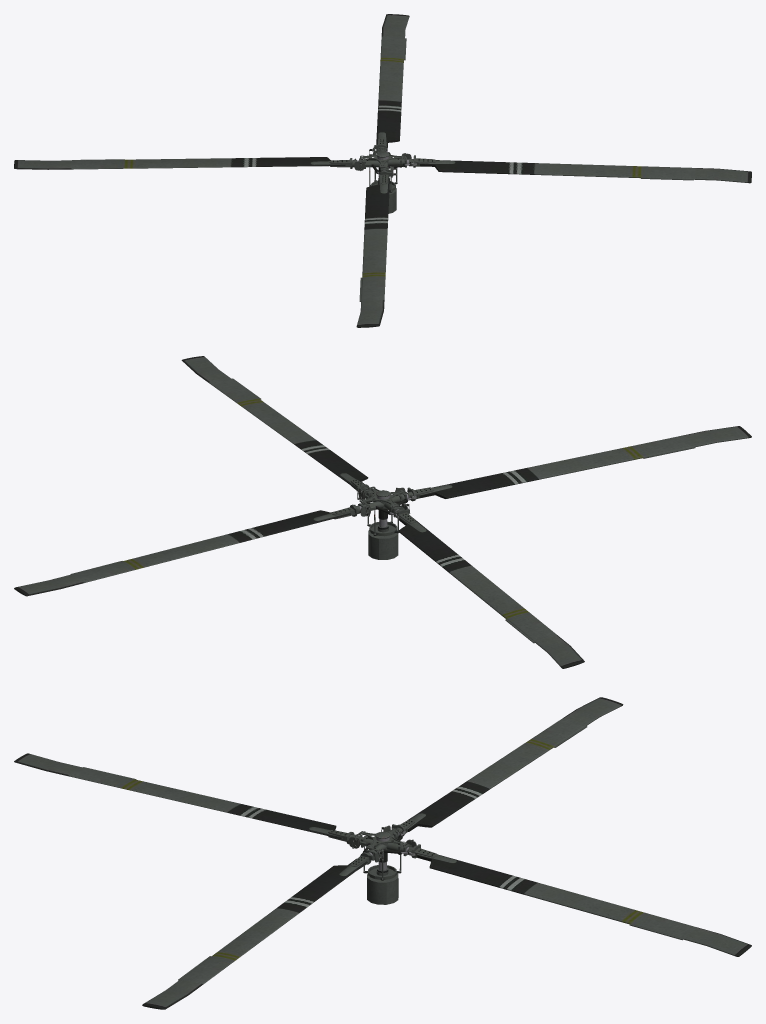
The model's file is sh60_rotor.glb.
The picture shows the model from 3 angles, top to bottom: view 1: azimuth 30°, elevation 25°; view 2: azimuth 150°, elevation 25°; view 3: azimuth 270°, elevation 25°; orthographic projection. The views are drawn at different scales.
Parts seen in each view (by area): view 1: rotor; view 2: rotor; view 3: rotor.
Part boxes in pixels (x1,y1,x2,y2): rotor: (14,14,751,327); rotor: (14,356,751,668); rotor: (14,697,751,1009).
Size of the model in its own units: 16.9 by 1.62 by 16.88.
Materials: 1 (1 with a texture image).
